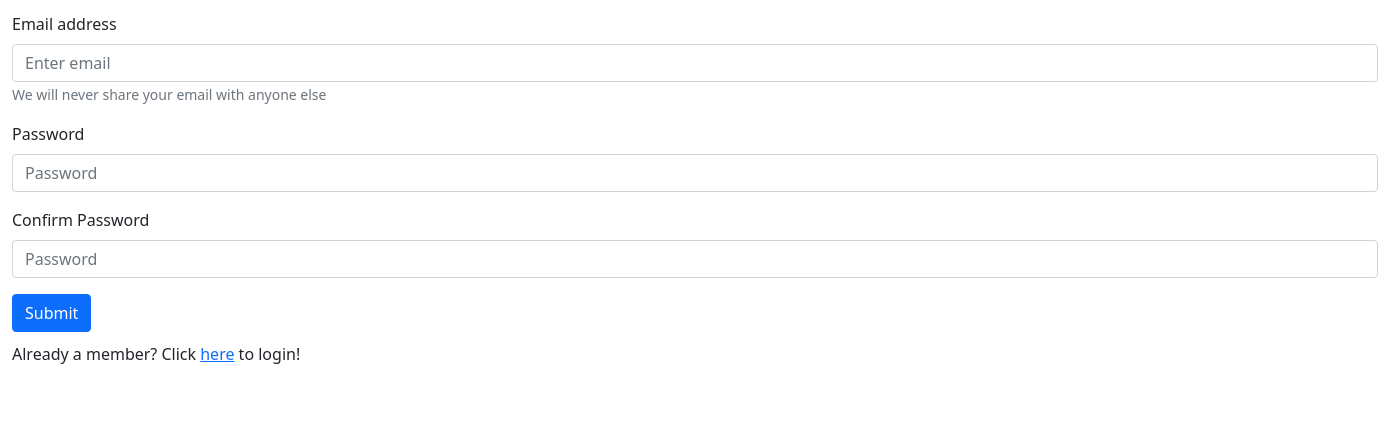
Test: Register form validates email on submit
Type "felixmorau" into the field with test id "emailField".
click(695, 63); type("felixmorau")  # box [12,44,1378,82]
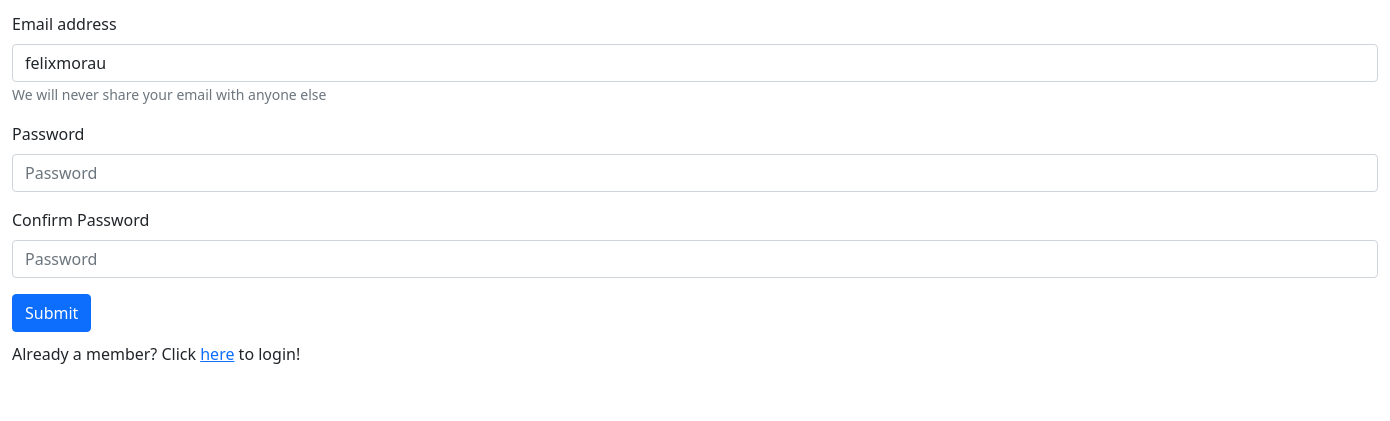
Type "asd" into the password field with test id "passwordField".
click(695, 173); type("asd")  # box [12,154,1378,192]
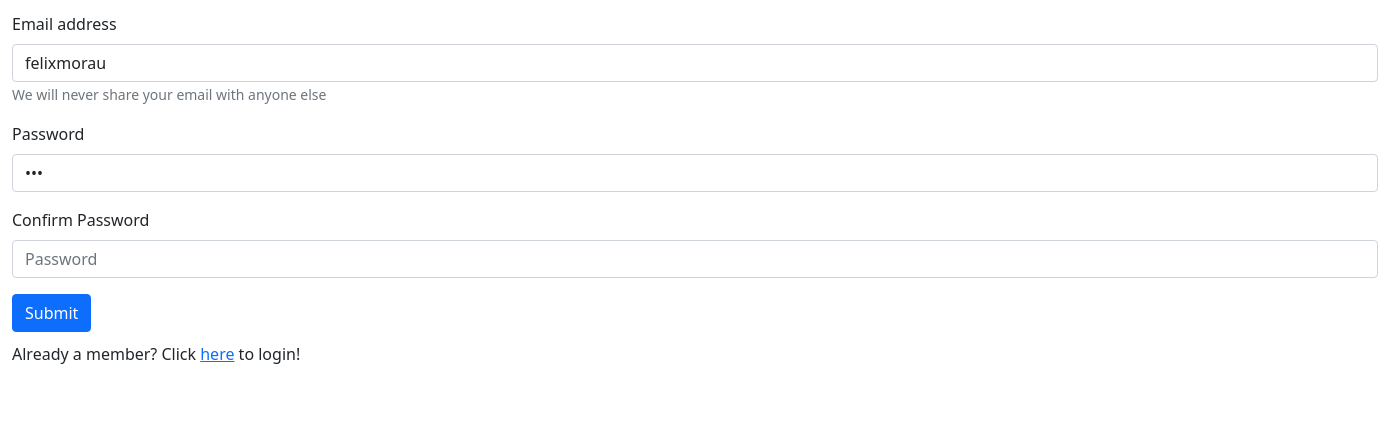
Type "asd" into the password field with test id "confirmPasswordField".
click(695, 259); type("asd")  # box [12,240,1378,278]
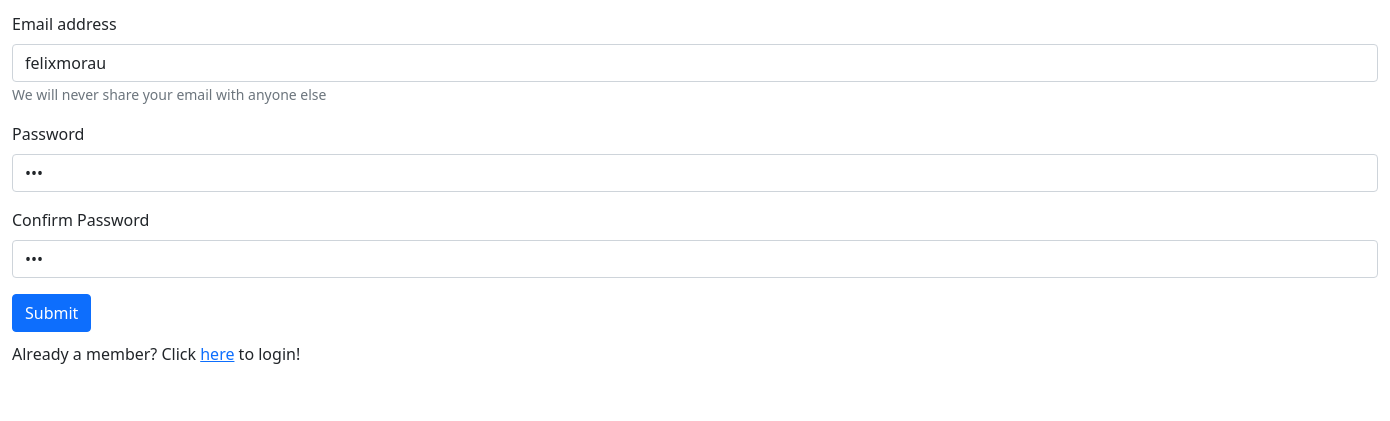
Submit the form from the button with test id "submit", box [12,294,91,332]
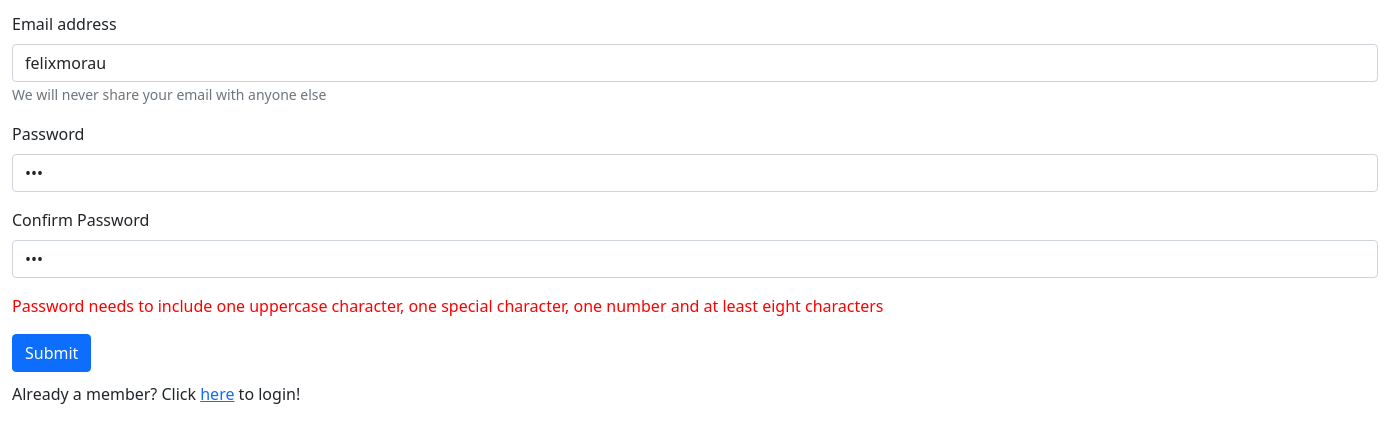
Now the text "Password needs to include one uppercase character, one special character, one number and at least eight characters" is shown, box [12,295,884,317]
